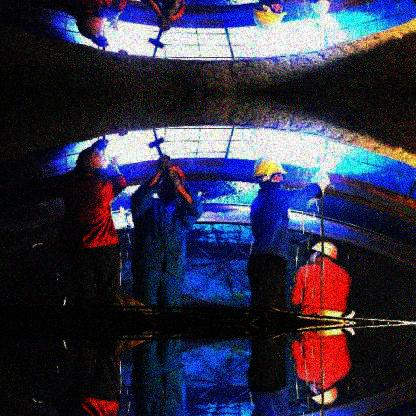helmet: (254, 1, 290, 32), (253, 155, 288, 183), (77, 147, 107, 175), (309, 239, 339, 265), (77, 15, 109, 39), (161, 164, 187, 193), (309, 383, 340, 407), (168, 1, 187, 23)
